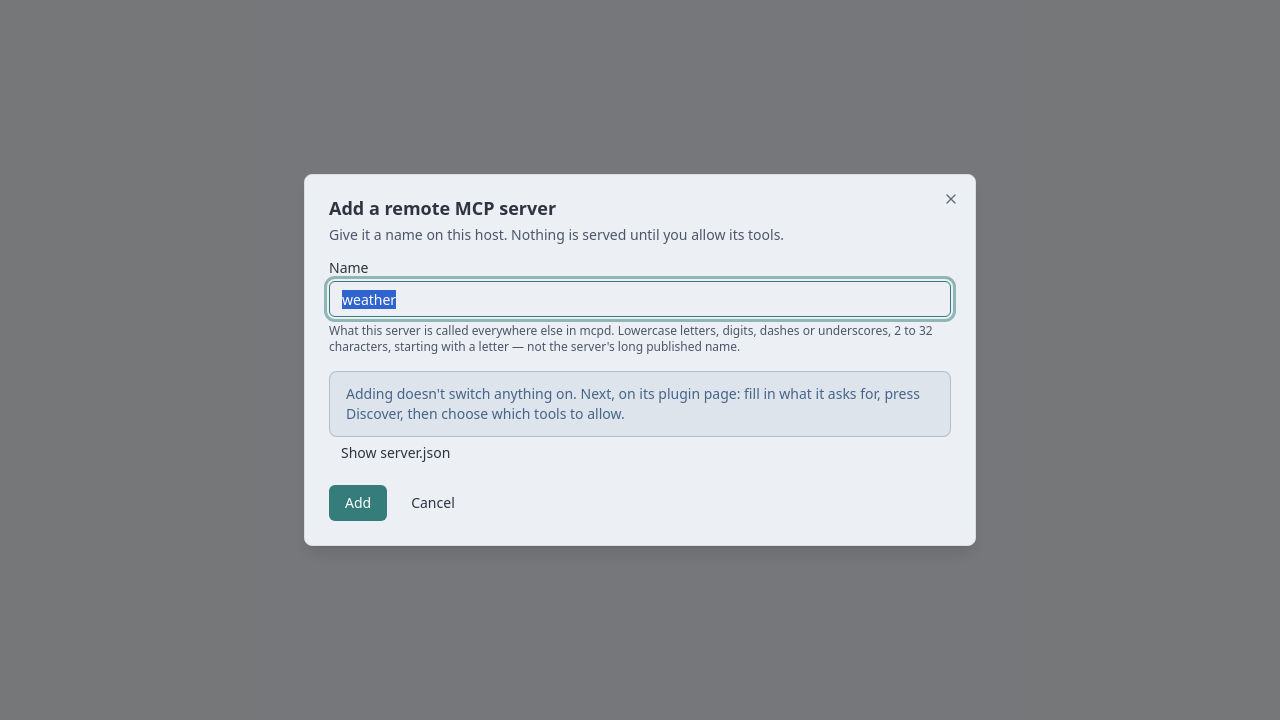
it: a name already in use › puts the server's refusal on the field, not at the top of the dialog
What coordinates should you click on to do the following:
click the button "Add"
I would click on:
 (358, 503)
Its box is [329,485,387,521].
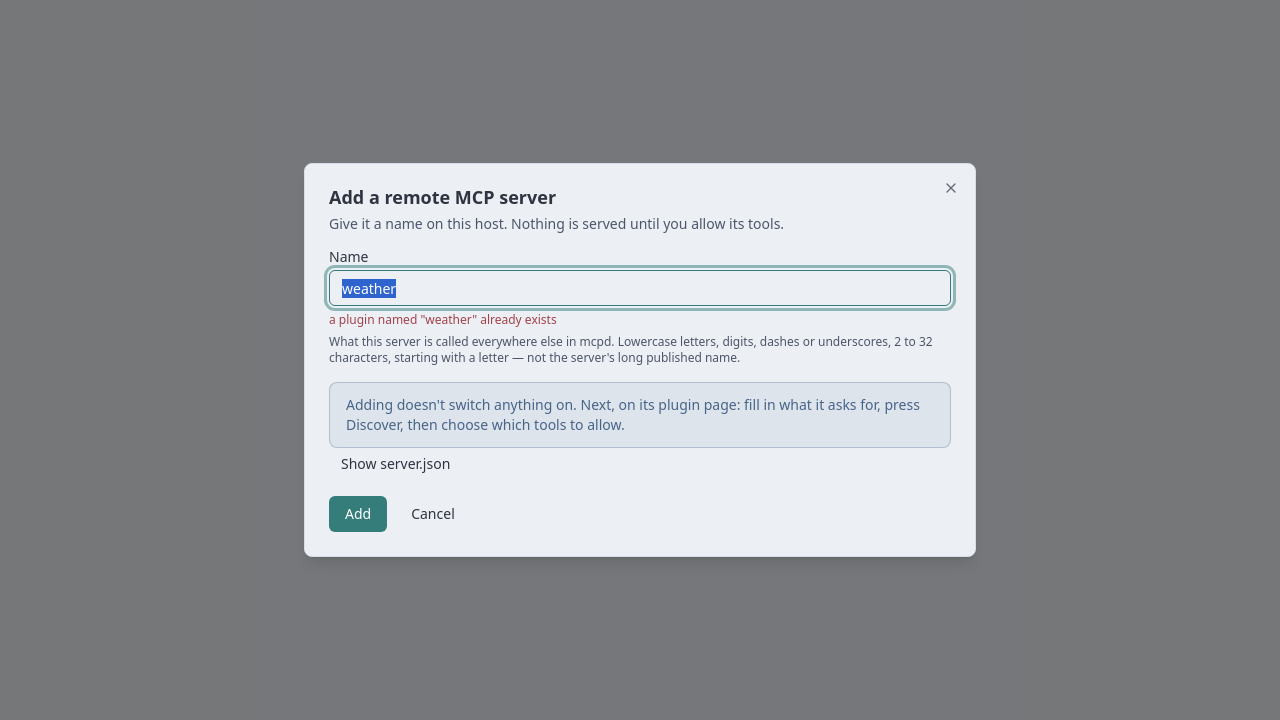
Check: the text "a plugin named \"weather\" already exists" is shown, box [329,311,557,328]
